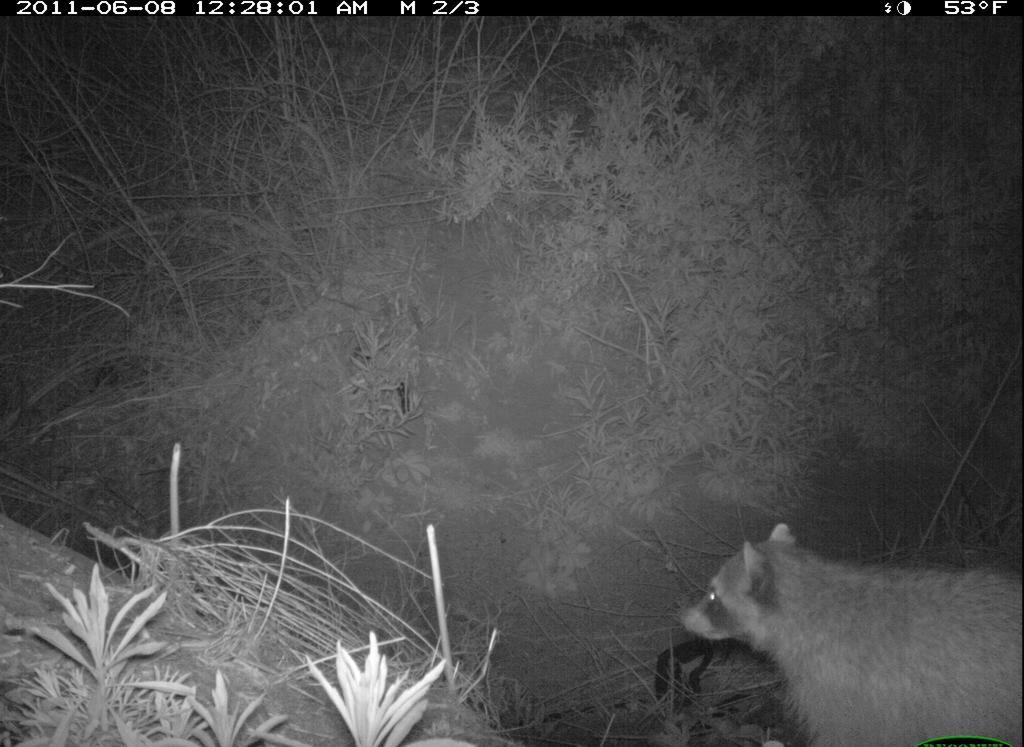raccoon: (676, 510, 1024, 747)
